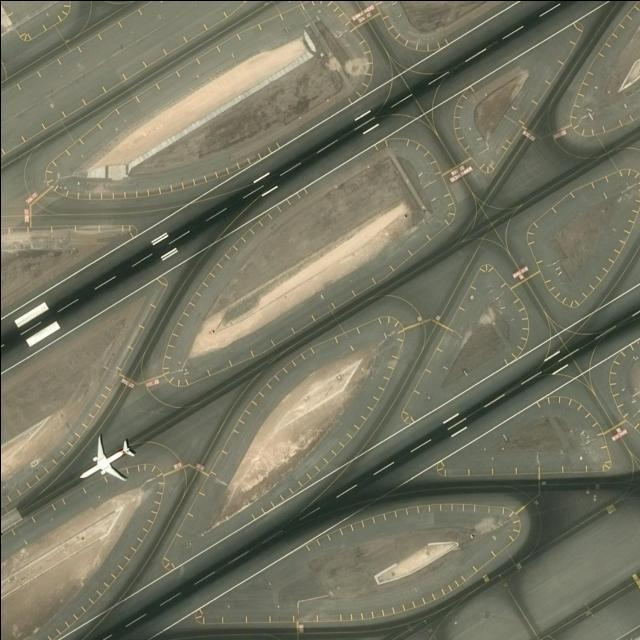Aircraft: (77, 433, 137, 486)
